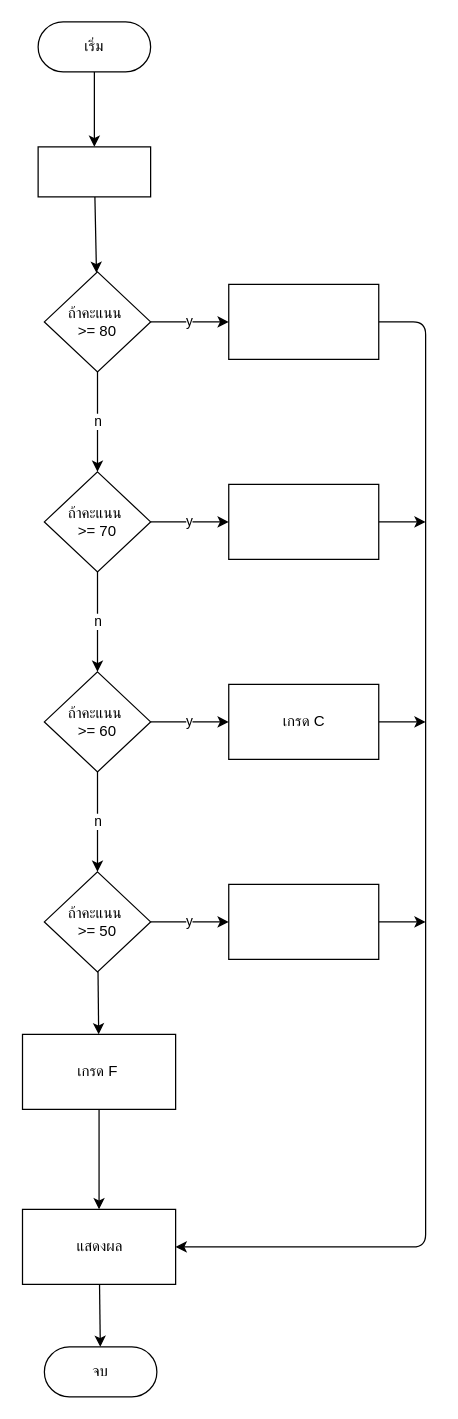
Image size: 458x1419. Some labels were removed from this diagram. The box of each missing label's shape, as (x1, y1, x2, y2) in pixels:
เกรด A: (228, 283, 379, 359)
เกรด B: (228, 483, 379, 559)
เกรด D: (228, 883, 379, 959)
ได้คะแนน: (37, 146, 151, 197)
